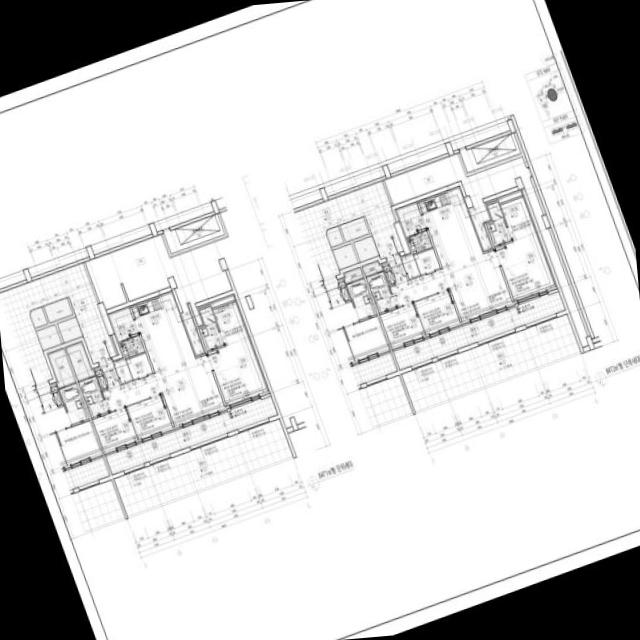background: (0, 0, 640, 640)
space_balconi: (392, 291, 565, 369), (105, 395, 277, 473)
space_bedroom: (207, 337, 267, 405), (495, 232, 555, 300), (414, 289, 459, 334), (126, 394, 172, 438), (379, 302, 424, 346), (92, 407, 137, 451)
space_dressroom: (500, 196, 535, 241), (212, 301, 248, 344)
space_elevator_hall: (294, 180, 403, 280)
space_front: (94, 358, 132, 389), (382, 254, 407, 284)
space_kitchen: (418, 187, 482, 268), (131, 292, 195, 372)
space_living_room: (102, 354, 224, 425), (390, 250, 512, 320)
space_other: (383, 153, 587, 346), (113, 418, 293, 517), (0, 262, 115, 385), (459, 132, 520, 172), (109, 307, 144, 357), (396, 203, 431, 253), (66, 342, 94, 380), (48, 349, 75, 387), (339, 216, 368, 241), (43, 297, 72, 321), (413, 248, 439, 274), (126, 352, 152, 378), (353, 235, 378, 261), (57, 316, 82, 342), (332, 243, 357, 268), (36, 324, 61, 349), (400, 253, 419, 278), (29, 306, 47, 327), (326, 225, 343, 246), (498, 191, 522, 202), (362, 262, 382, 275)
space_toilet: (78, 376, 108, 417), (366, 271, 395, 312), (198, 306, 223, 350), (486, 201, 511, 245)
